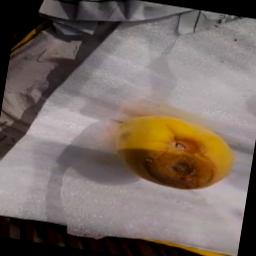Peach Rotten: (98, 100, 246, 205)
